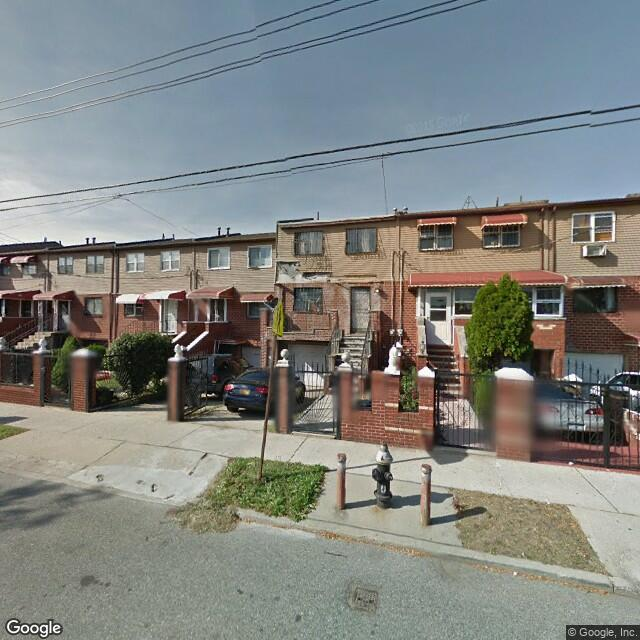litter: (566, 461, 580, 467), (511, 568, 519, 576), (492, 460, 501, 463)
